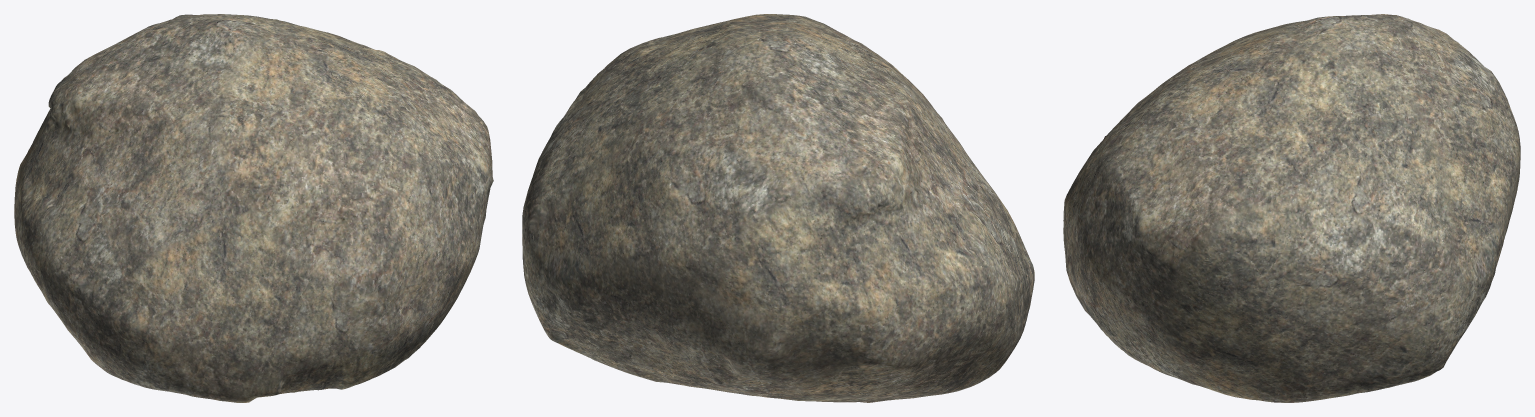
Rendered from Rock 02.obj.
The picture shows the model from 3 angles, left to right: view 1: azimuth 30°, elevation 25°; view 2: azimuth 150°, elevation 25°; view 3: azimuth 270°, elevation 25°; orthographic projection. The views are drawn at different scales.
Visible parts, largest first — view 1: Rock 02; view 2: Rock 02; view 3: Rock 02.
Boxes of the visible parts, box(x1,y1,x2,y2) form: Rock 02: box(14, 14, 493, 402); Rock 02: box(522, 14, 1034, 402); Rock 02: box(1063, 14, 1520, 402).
Bounding box in the file's own units: 130 × 94.27 × 122.
